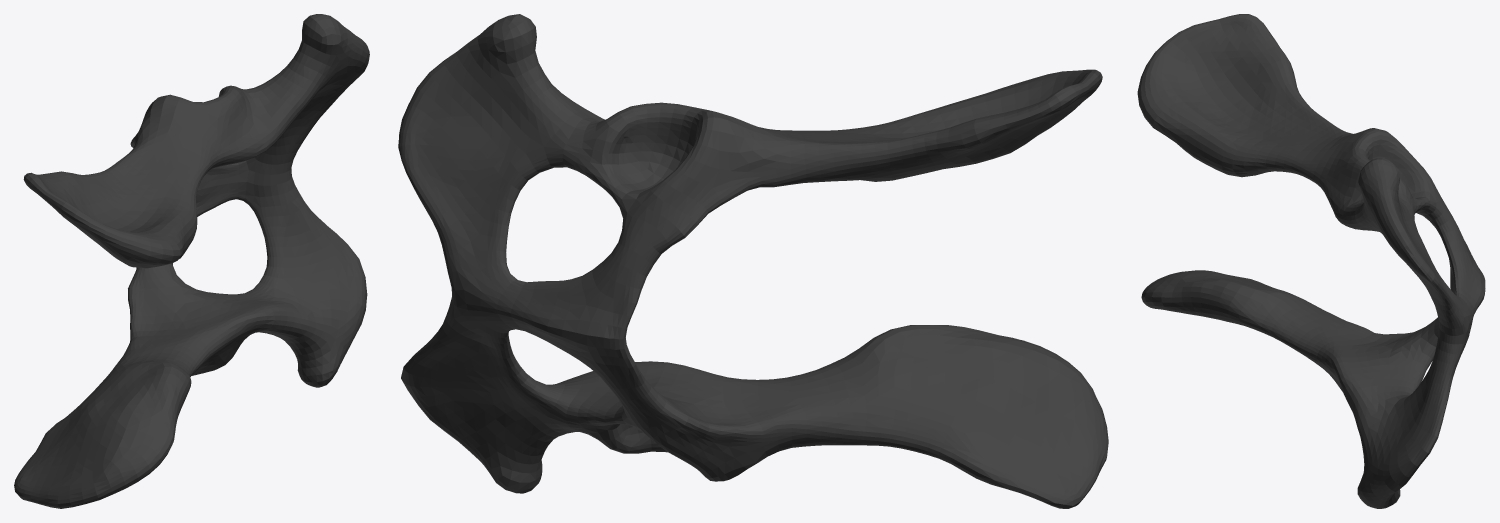
File: Pelvis_L.glb
The picture shows the model from 3 angles, left to right: view 1: azimuth 30°, elevation 25°; view 2: azimuth 150°, elevation 25°; view 3: azimuth 270°, elevation 25°; orthographic projection. The views are drawn at different scales.
Parts seen in each view (by area): view 1: Pelvis_L; view 2: Pelvis_L; view 3: Pelvis_L.
Boxes of the visible parts, x1,y1,x2,y2 form: Pelvis_L: (14, 14, 369, 508); Pelvis_L: (398, 14, 1108, 508); Pelvis_L: (1137, 14, 1485, 508).
Bounding box in the file's own units: 676 × 544 × 491.
1 material, 1 textured.
